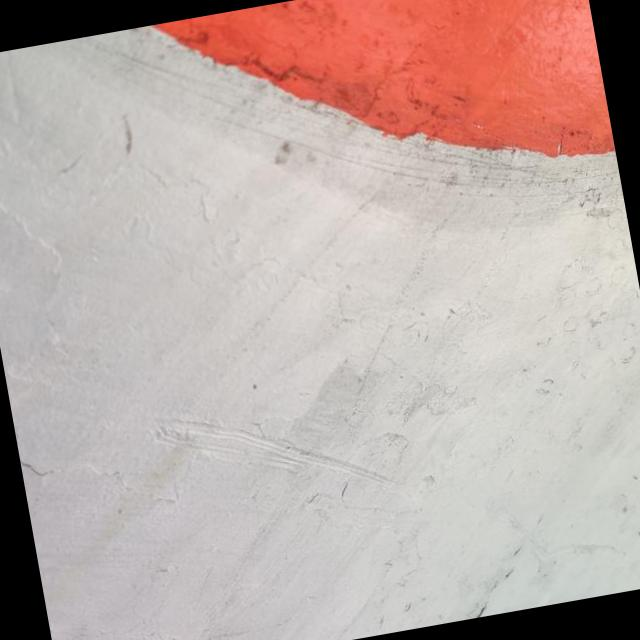Scratch: (155, 418, 395, 488)
